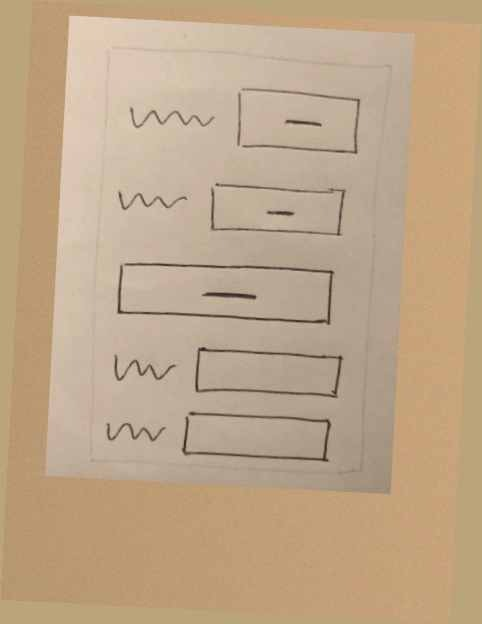button: (110, 255, 340, 335), (229, 81, 366, 162), (206, 178, 349, 245)
text: (121, 96, 220, 144), (108, 176, 206, 224), (101, 346, 188, 391), (94, 408, 181, 453)
text_input: (189, 342, 349, 406), (178, 406, 338, 470)
